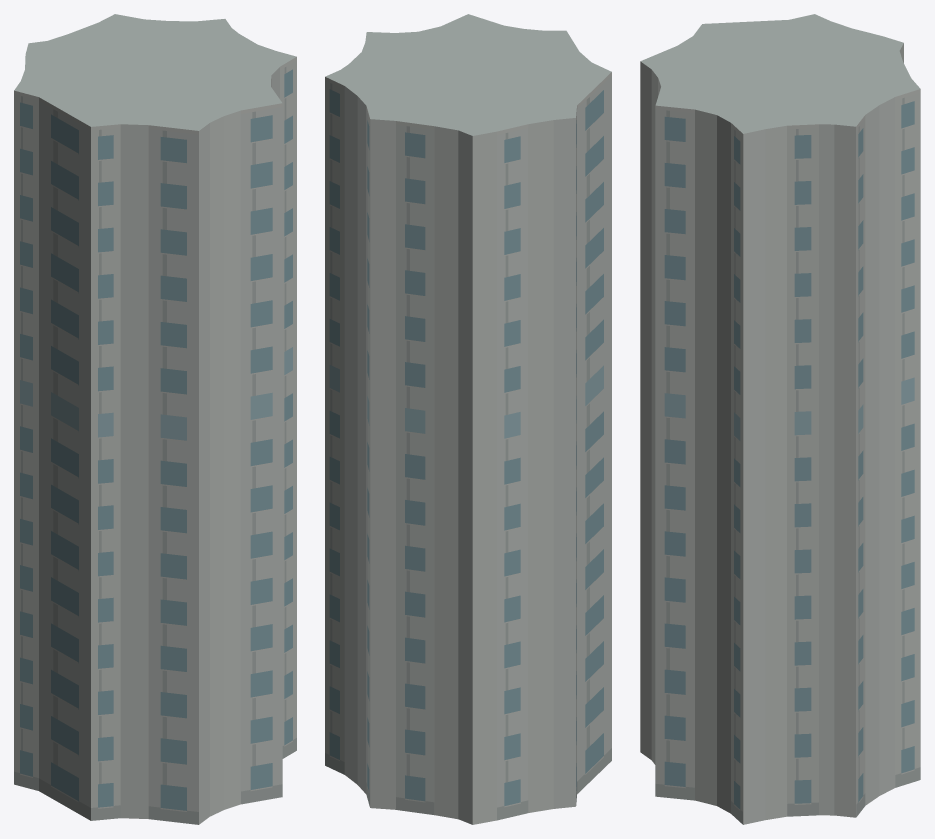
File: survey-upis-32543575.glb
3 renders of one model, left to right at view 1: azimuth 30°, elevation 25°; view 2: azimuth 150°, elevation 25°; view 3: azimuth 270°, elevation 25°, orthographic.
Parts seen in each view (by area): view 1: survey-upis-32543575.tmp; view 2: survey-upis-32543575.tmp; view 3: survey-upis-32543575.tmp.
Part boxes in pixels (box(x1,y1,x2,y2)): survey-upis-32543575.tmp: box(14, 14, 296, 824); survey-upis-32543575.tmp: box(325, 14, 611, 824); survey-upis-32543575.tmp: box(640, 14, 920, 824).
Bounding box in the file's own units: 17.04 × 45.75 × 16.83.
